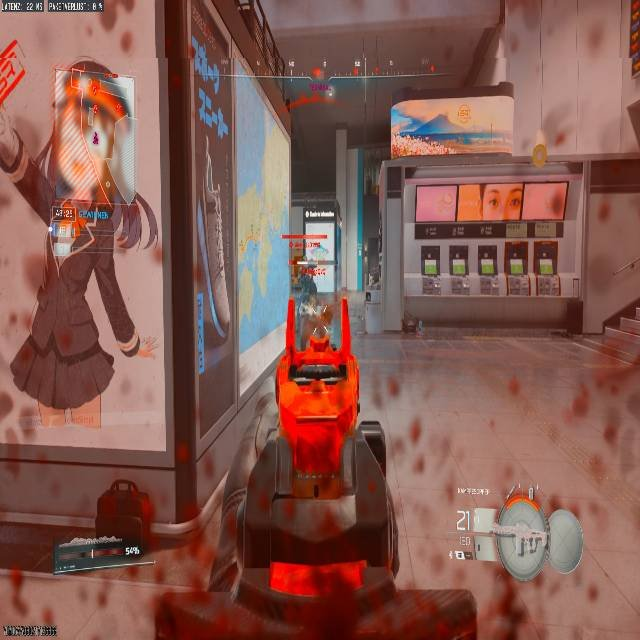player: (0, 45, 151, 434), (71, 71, 130, 171), (289, 251, 335, 353), (292, 251, 322, 309)
